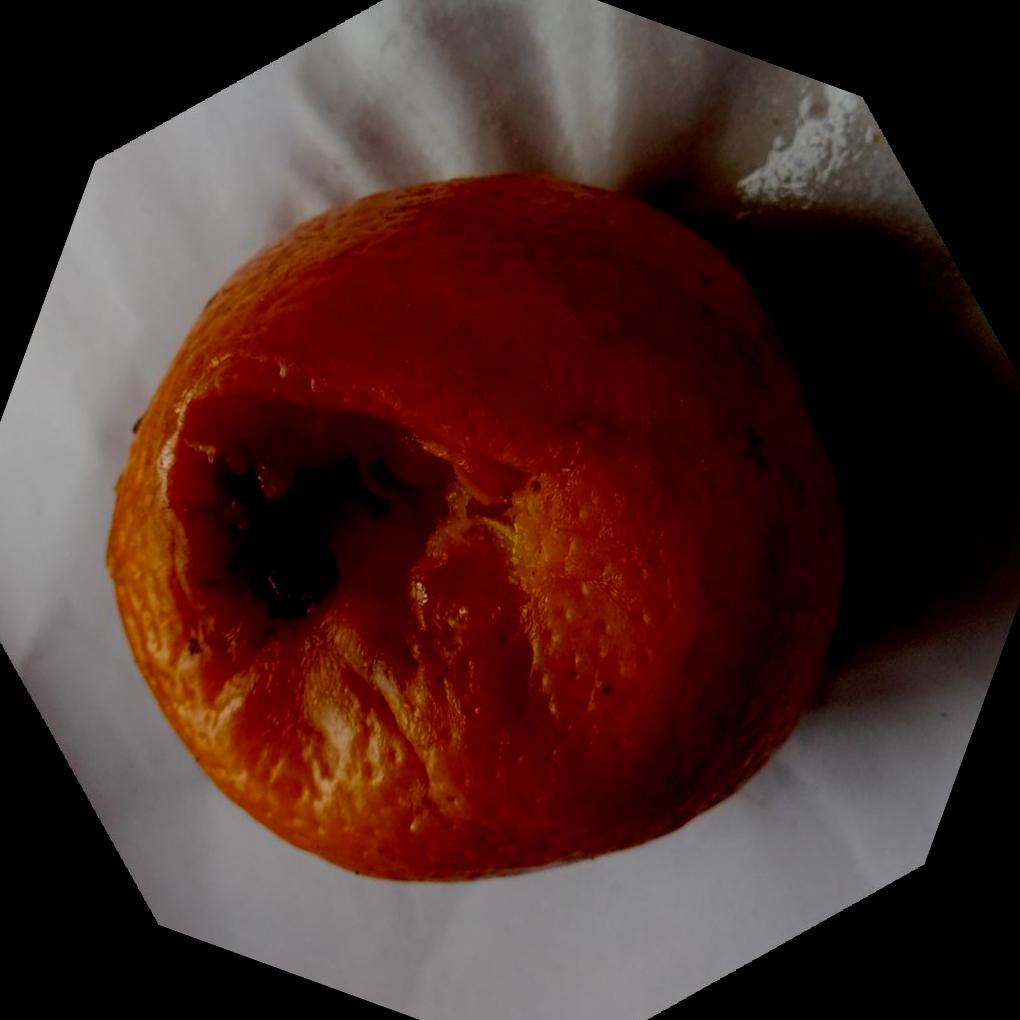FreshOrange: (106, 170, 858, 886)
